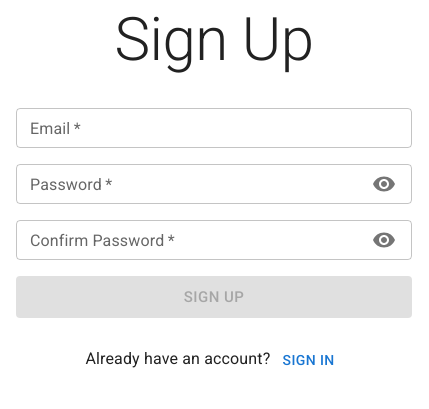
Scenario: Register › should validate email
Type "test" into the field with placeholder "Email" at (214, 128), box top-left (16, 108), bottom-right (412, 148)
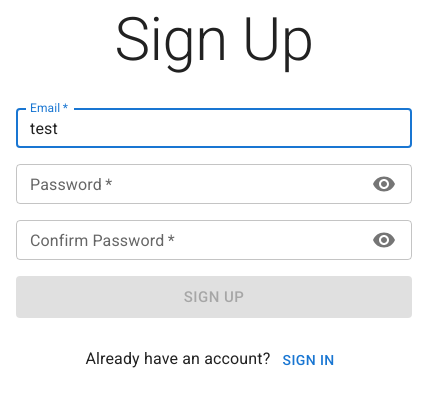
Click the password field with placeholder "Password" at (188, 184), box top-left (16, 164), bottom-right (359, 204)
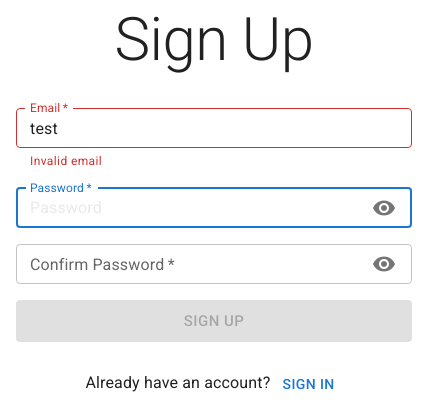
expect the text "Invalid email" is shown: met, box top-left (30, 154), bottom-right (102, 168)
